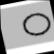no answer: (19, 9, 54, 38)
